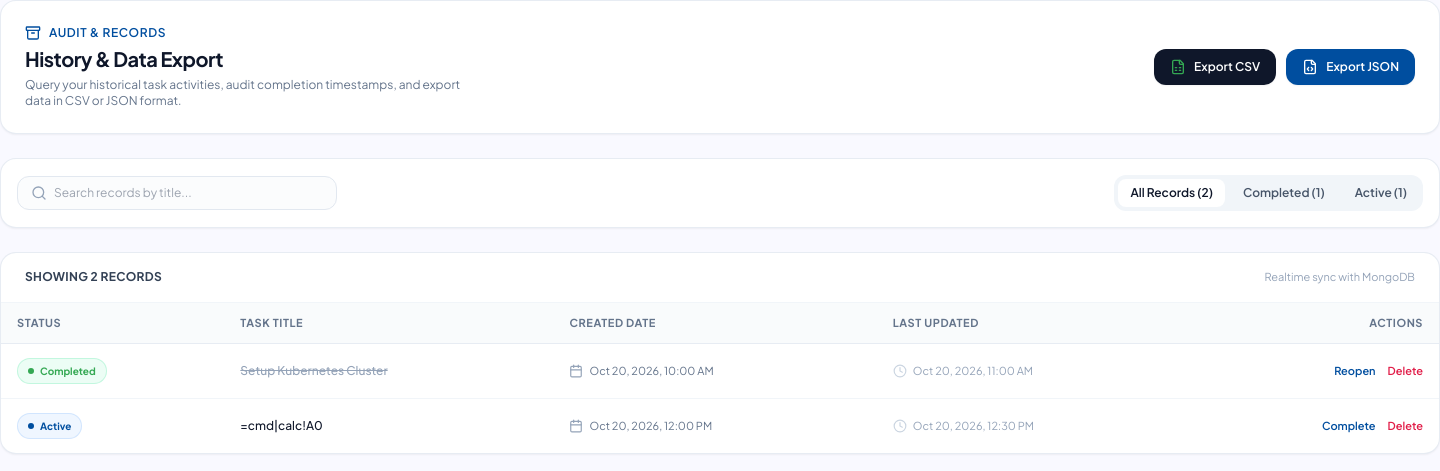
Test: HistoryView Component › filters records by search query
This screenshot has width=1440, height=471.
Type "Kubernetes" into the field with placeholder "Search records by title...".
click(177, 193); type("Kubernetes")  # box [17,176,337,210]
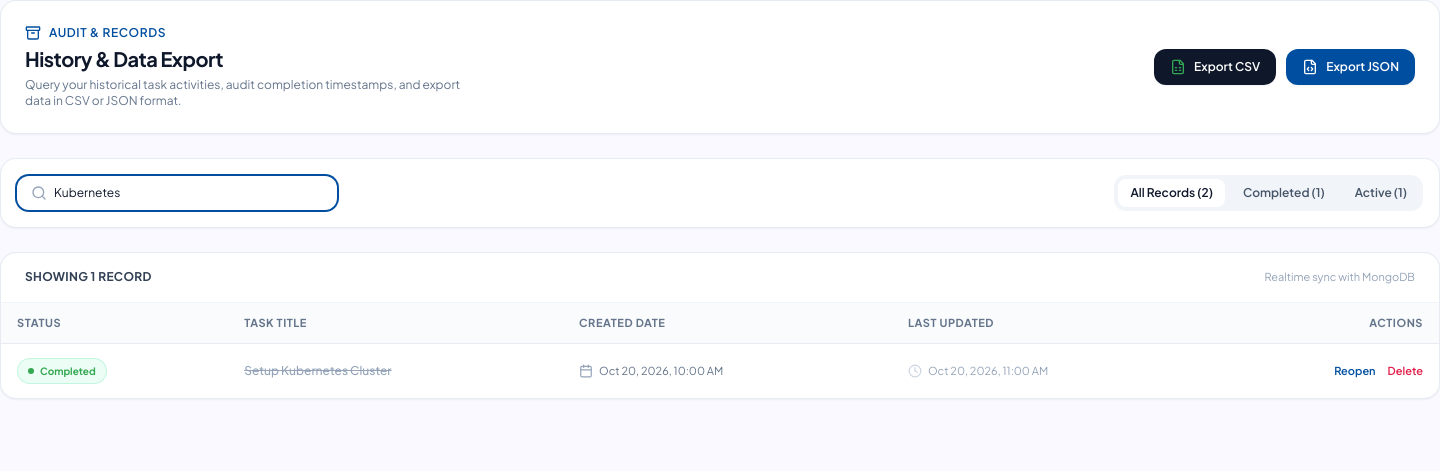
Expected: the text "Setup Kubernetes Cluster" is shown, [244,362,392,378]
Now the text "=cmd|calc!A0" is gone
